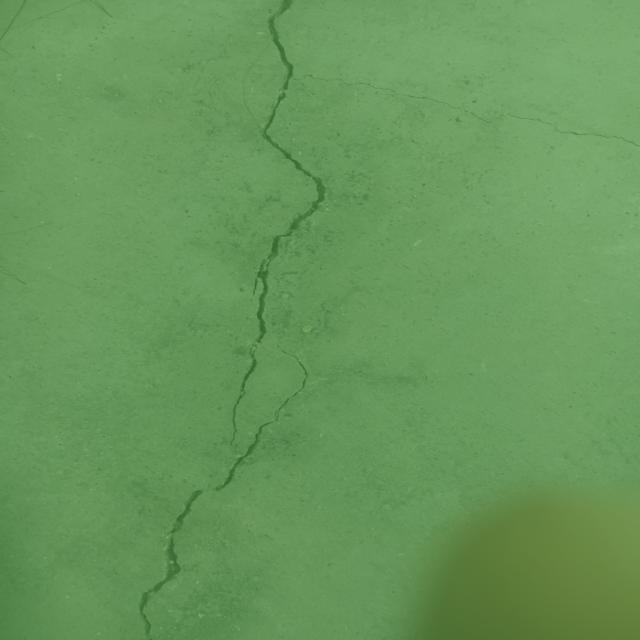crack: (228, 0, 640, 447), (212, 346, 310, 492), (137, 489, 205, 640)
